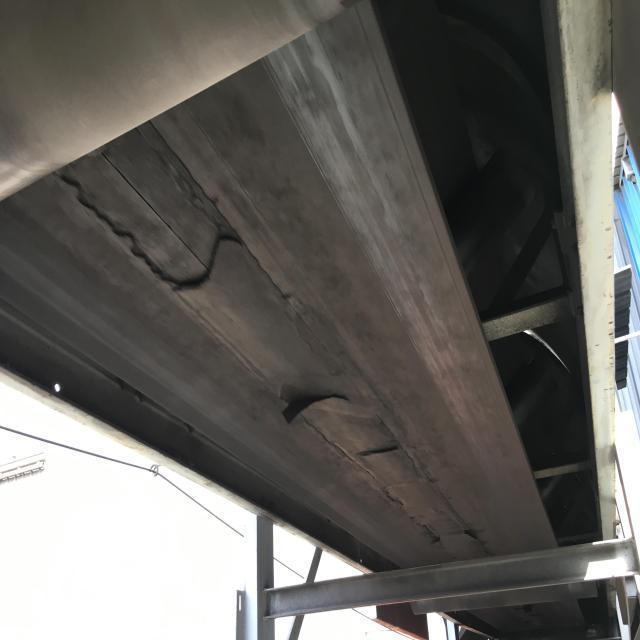Wear: (52, 129, 500, 569)
